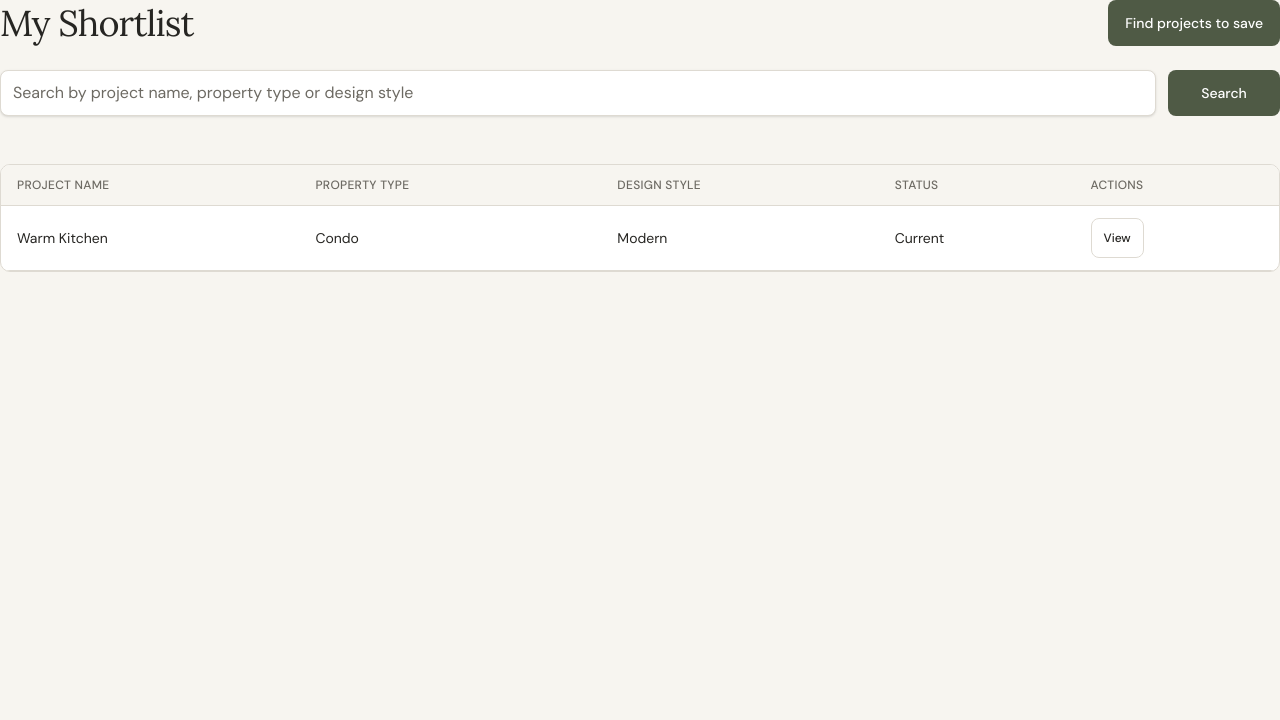
Test case: View: the View button opens the project in a pop-up
The width and height of the screenshot is (1280, 720).
Click the button "View" at (1117,238), box [1090, 218, 1144, 258]
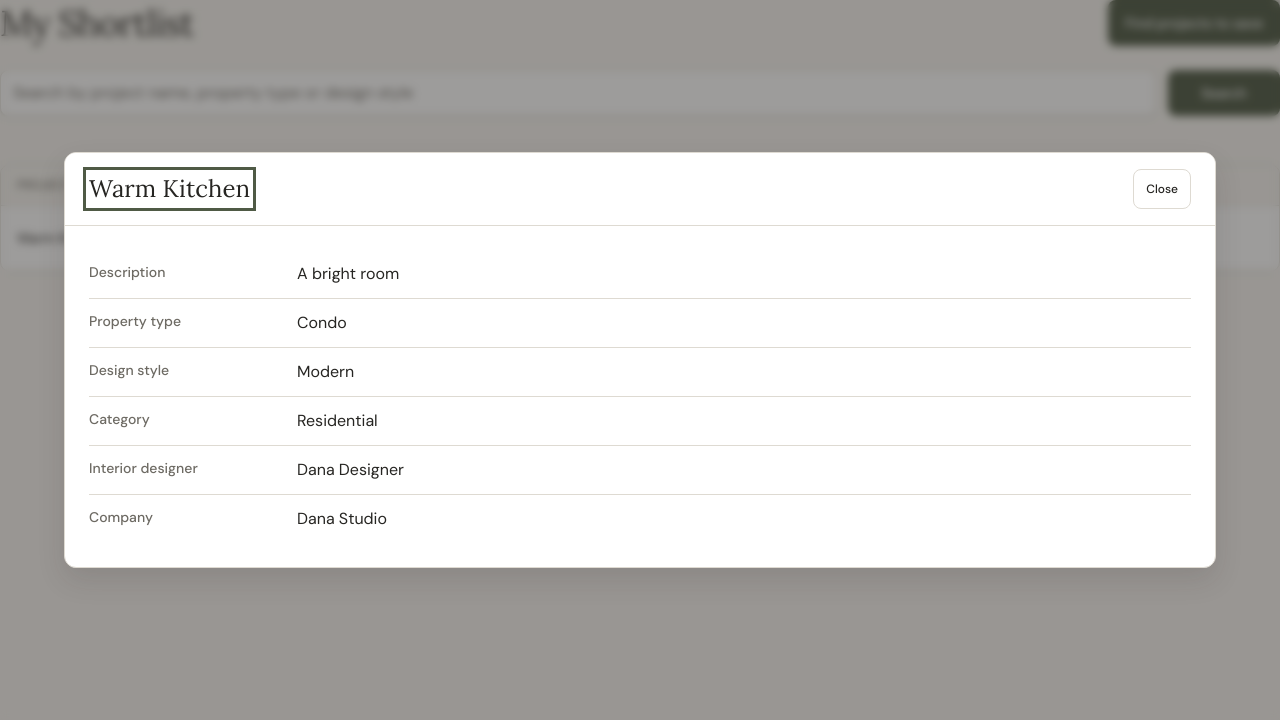
Expected: the text "A bright room" is shown, [297, 263, 399, 284]
Expected: the text "Dana Designer" is shown, [297, 459, 404, 480]
Click the button with aria-label "Close project view" at (1162,189), box [1133, 169, 1191, 209]
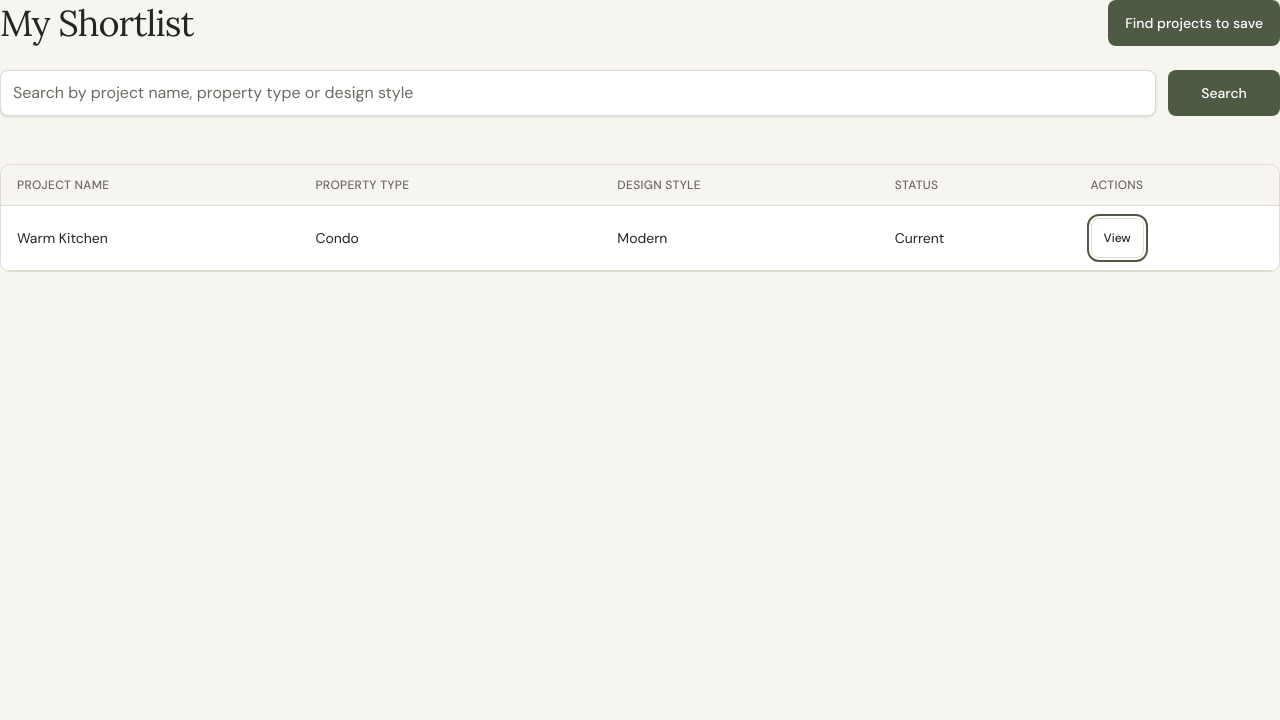
Expected: the dialog is gone
